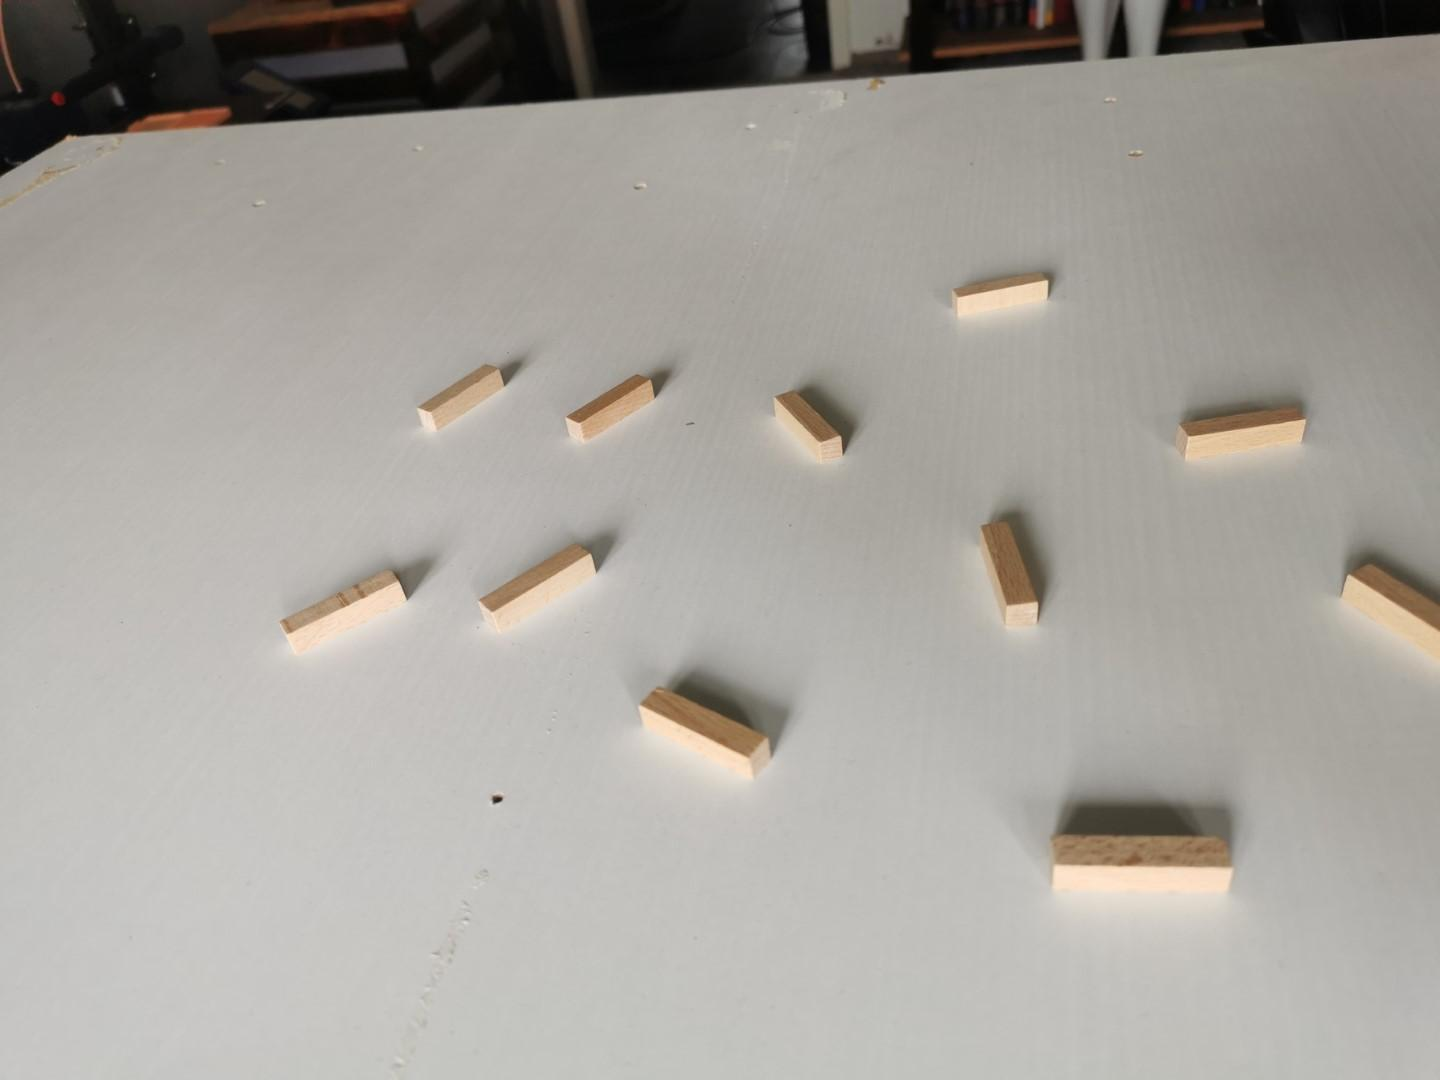jenga: (639, 687, 772, 779), (1053, 835, 1235, 894), (280, 569, 406, 652), (480, 545, 596, 631), (1344, 564, 1440, 658), (1179, 406, 1308, 458), (982, 522, 1040, 627), (566, 374, 655, 440), (417, 365, 503, 430), (776, 391, 844, 462), (952, 271, 1050, 315)
